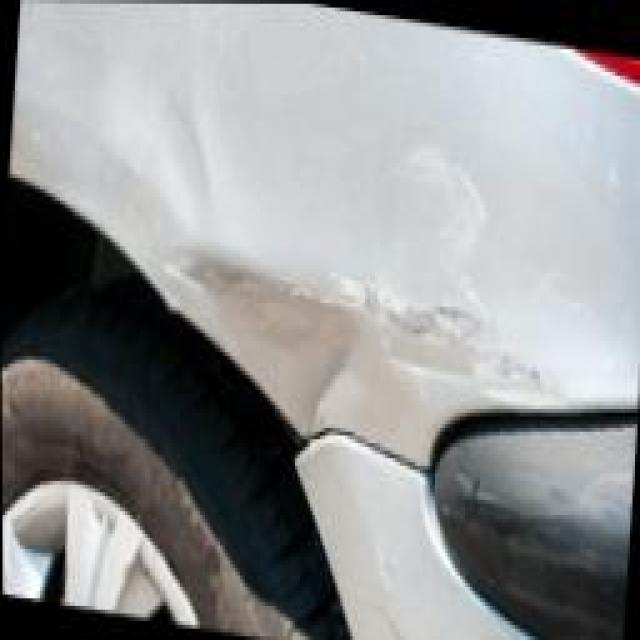Bumper: (310, 576, 622, 640)
Fender: (105, 30, 640, 452)
